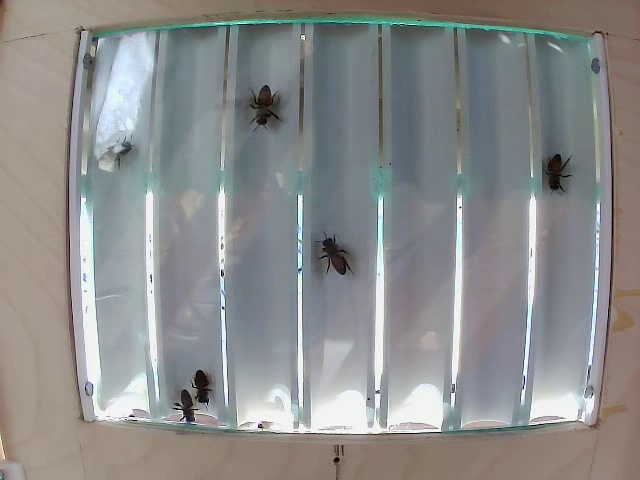bee: (252, 80, 291, 131), (319, 227, 358, 277), (539, 151, 574, 187), (191, 371, 224, 405), (174, 393, 198, 422)
